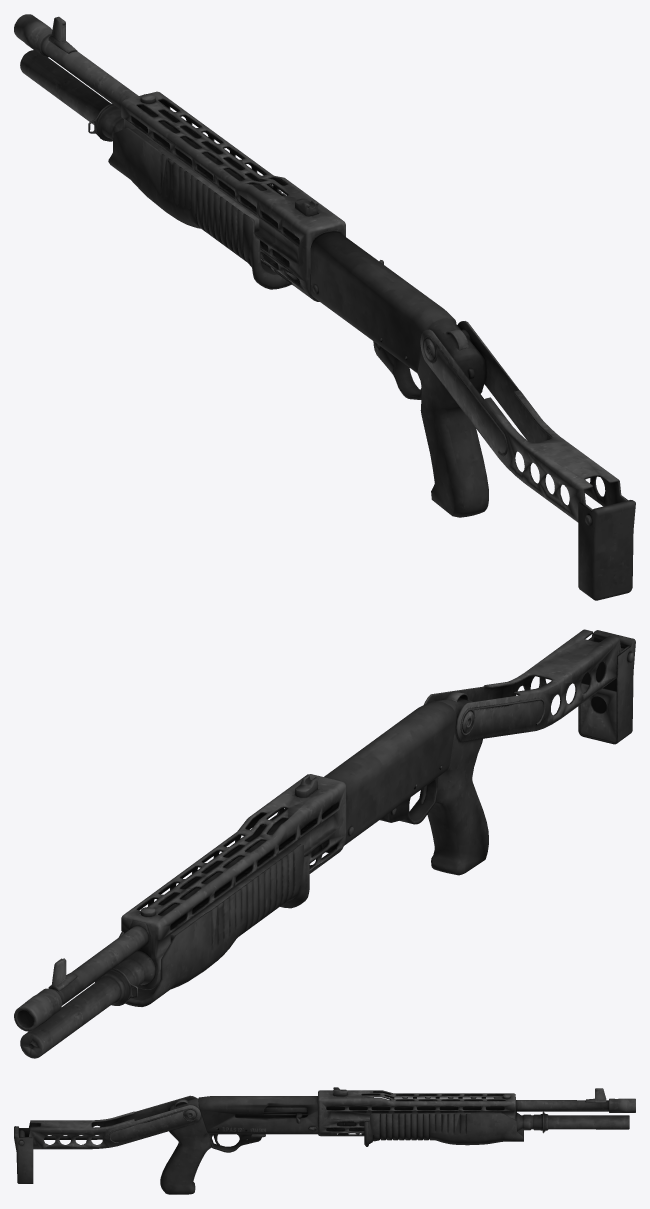
Rendered from spas_12.glb.
3 views of the same model, one above another, from view 1: azimuth 30°, elevation 25°; view 2: azimuth 150°, elevation 25°; view 3: azimuth 270°, elevation 25° (orthographic). The views are drawn at different scales.
Parts seen in each view (by area): view 1: s 12 2_0, s 12 1_0; view 2: s 12 1_0, s 12 2_0; view 3: s 12 1_0, s 12 2_0.
Boxes of the visible parts, x1=… form: s 12 2_0: x1=108, y1=127, x2=635, y2=600; s 12 1_0: x1=14, y1=14, x2=456, y2=399; s 12 1_0: x1=14, y1=701, x2=456, y2=1058; s 12 2_0: x1=119, y1=629, x2=635, y2=1006; s 12 1_0: x1=198, y1=1087, x2=635, y2=1152; s 12 2_0: x1=14, y1=1095, x2=523, y2=1194.
Size of the model in its own units: 0.067 by 0.1901 by 1.04.
Materials: 2 (2 with a texture image).
